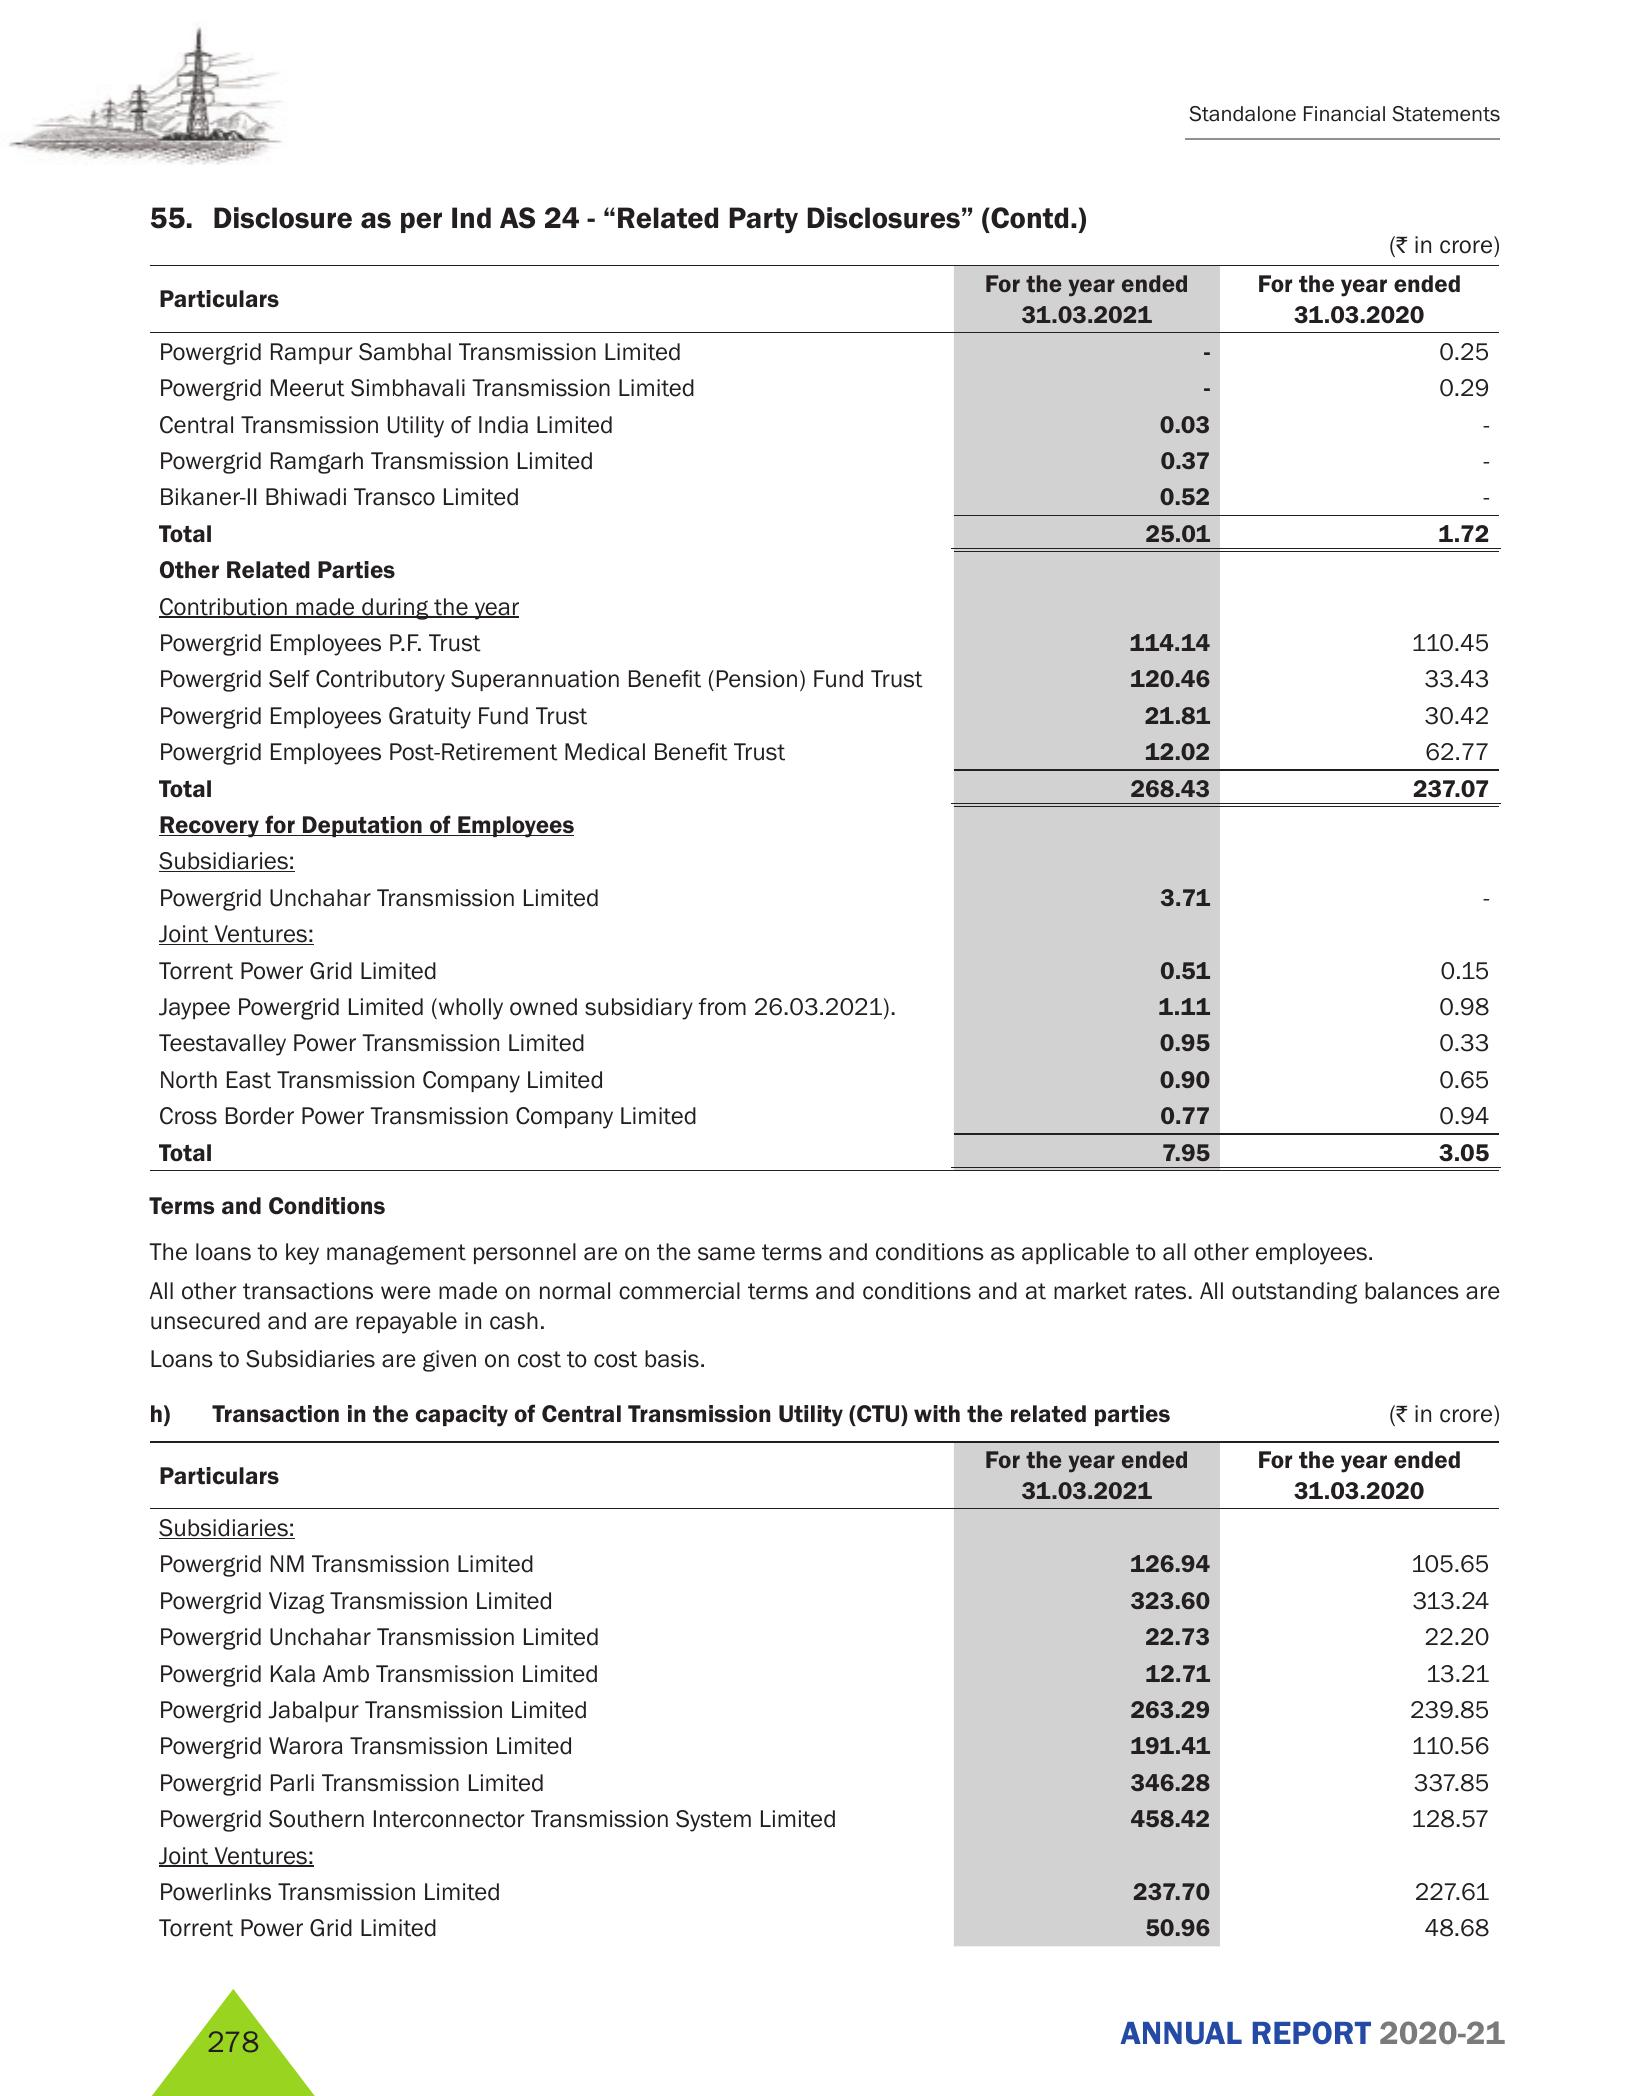Footer: (0, 1979, 1650, 2096)
Header: (0, 0, 1650, 172)
Table: (105, 260, 1560, 1169), (122, 1434, 1528, 1950)
